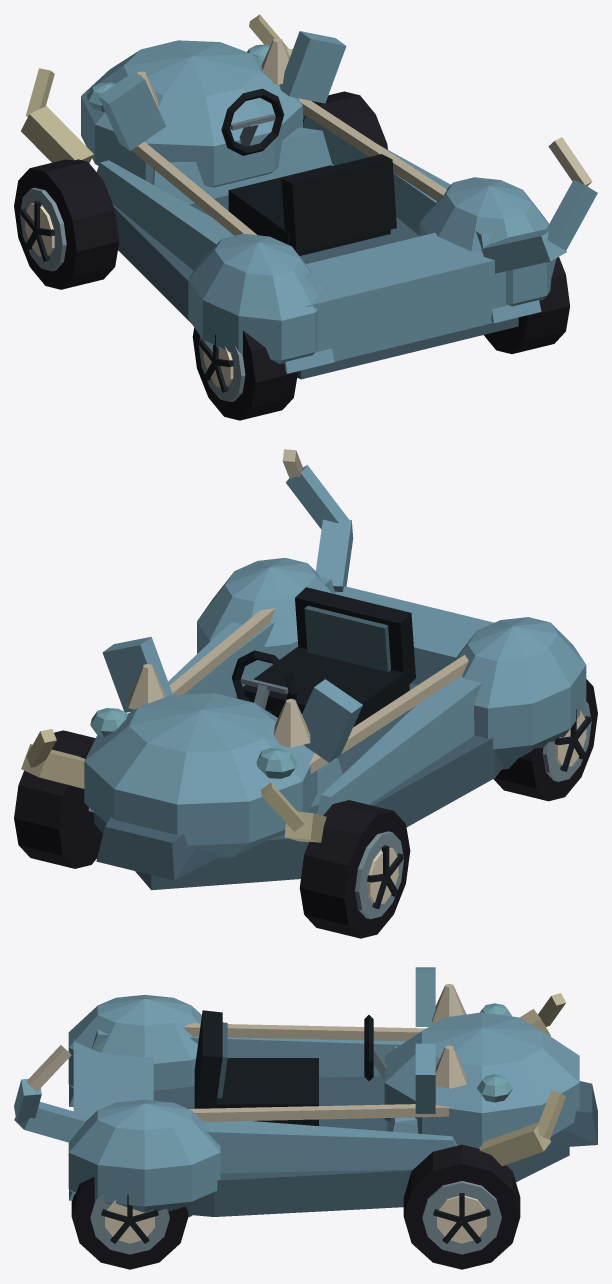
The model's file is kart.glb.
3 views of the same model, one above another, from view 1: azimuth 30°, elevation 25°; view 2: azimuth 150°, elevation 25°; view 3: azimuth 270°, elevation 25° (orthographic). The views are drawn at different scales.
Parts seen in each view (by area): view 1: identity-beast-beast-sculpted-prow-and-haunches, identity-beast-driver-cockpit, wheel-front-left, wheel-rear-left, identity-beast-motif-tail, identity-beast-motif-tusks, wheel-rear-right, wheel-front-right; view 2: identity-beast-beast-sculpted-prow-and-haunches, identity-beast-driver-cockpit, wheel-front-left, wheel-front-right, wheel-rear-left, identity-beast-motif-tail, identity-beast-motif-tusks; view 3: identity-beast-beast-sculpted-prow-and-haunches, wheel-front-right, identity-beast-driver-cockpit, wheel-rear-right, identity-beast-motif-tusks, identity-beast-motif-tail.
Part boxes in pixels (box(x1,y1,x2,y2)): identity-beast-beast-sculpted-prow-and-haunches: box(81, 31, 556, 379); identity-beast-driver-cockpit: box(221, 88, 396, 255); wheel-front-left: box(14, 159, 119, 289); wheel-rear-left: box(192, 328, 297, 420); identity-beast-motif-tail: box(481, 137, 597, 273); identity-beast-motif-tusks: box(21, 14, 304, 163); wheel-rear-right: box(484, 257, 569, 353); wheel-front-right: box(303, 91, 387, 149); identity-beast-beast-sculpted-prow-and-haunches: box(84, 558, 586, 890); identity-beast-driver-cockpit: box(231, 587, 415, 726); wheel-front-left: box(299, 800, 410, 938); wheel-front-right: box(14, 730, 102, 868); wheel-rear-left: box(493, 679, 597, 801); identity-beast-motif-tail: box(282, 449, 353, 591); identity-beast-motif-tusks: box(21, 729, 326, 842); identity-beast-beast-sculpted-prow-and-haunches: box(68, 967, 597, 1217); wheel-front-right: box(403, 1144, 520, 1269); identity-beast-driver-cockpit: box(194, 1010, 386, 1125); wheel-rear-right: box(71, 1177, 188, 1269); identity-beast-motif-tusks: box(479, 993, 566, 1166); identity-beast-motif-tail: box(14, 1045, 89, 1142).
Size of the model in its own units: 2.01 by 1.3 by 3.2.
